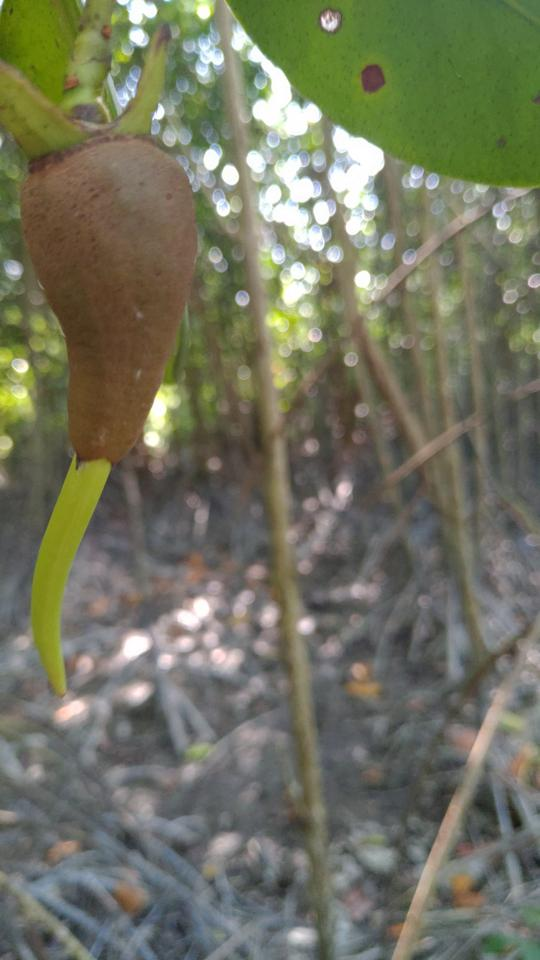mentah: (1, 10, 213, 720)
